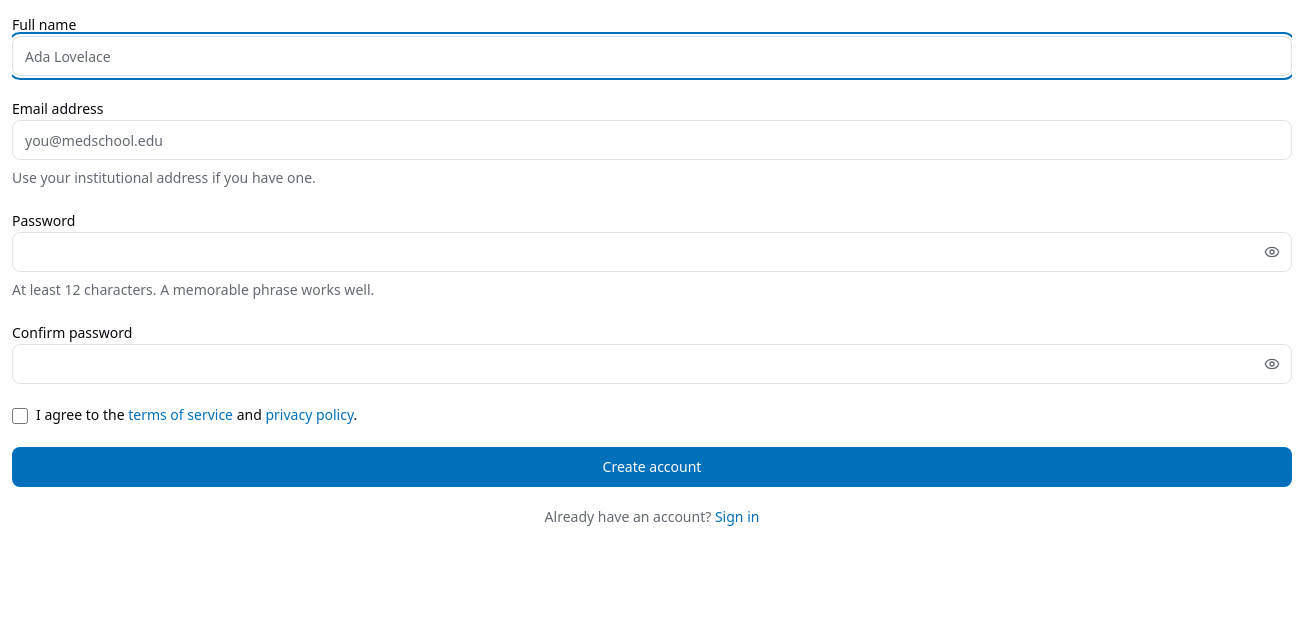
Test: RegisterForm › requires every field
Step 1. Click the button "Create account" → click(652, 467), box [12, 447, 1292, 487]
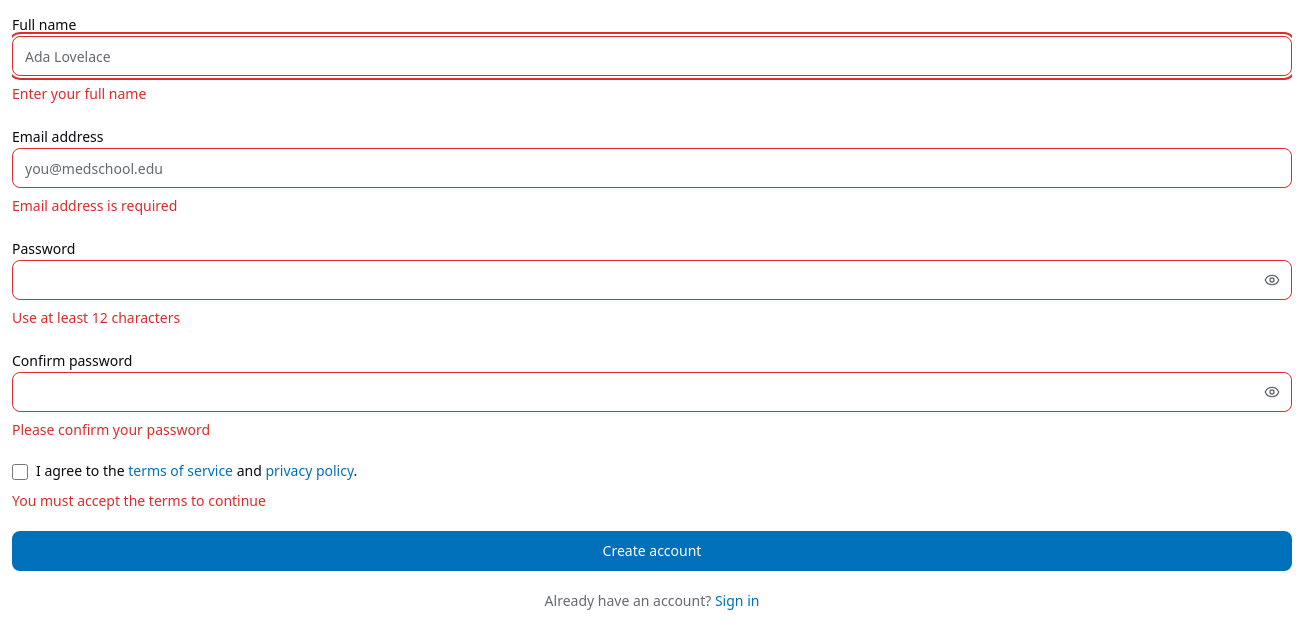
Now the text "Enter your full name" is shown, box [12, 84, 146, 103]
Now the text "Email address is required" is shown, box [12, 196, 177, 215]
Now the text "You must accept the terms to continue" is shown, box [12, 491, 266, 510]
